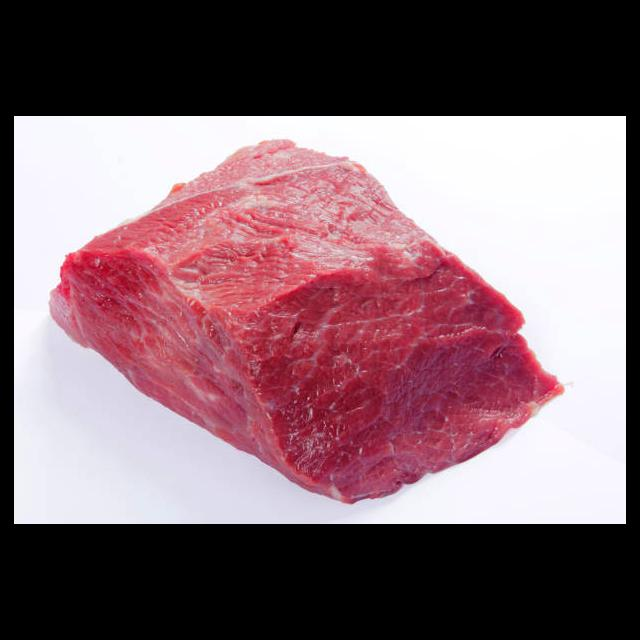beef: (47, 139, 566, 505)
